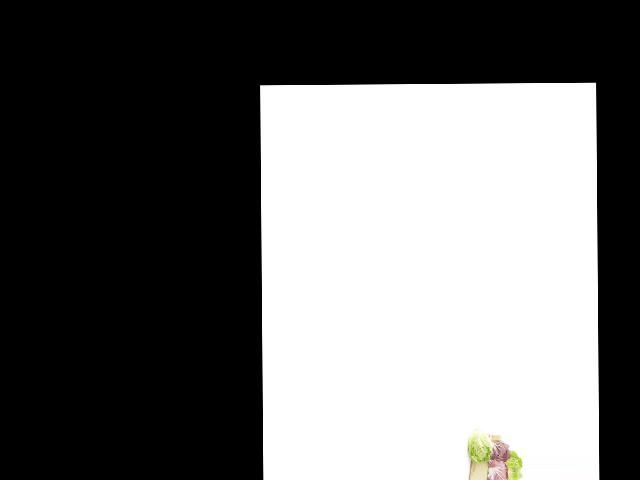lettuce: (501, 450, 522, 480)
